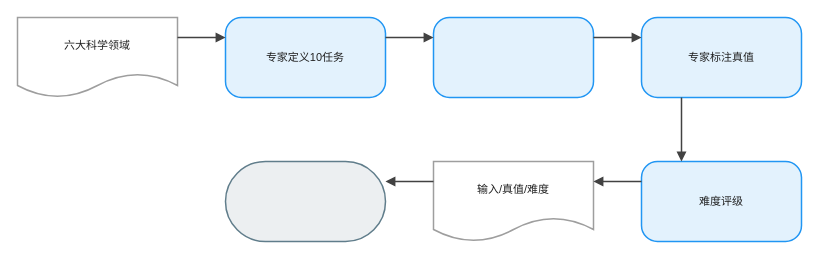
The diagram is 820 pixels wide and 260 high, and some of its shapes have lost their labels. The box of each missing label's shape, as (x1, y1, x2, y2) in pixels:
10 个任务: (224, 160, 386, 242)
7类任务取材: (432, 16, 594, 98)
